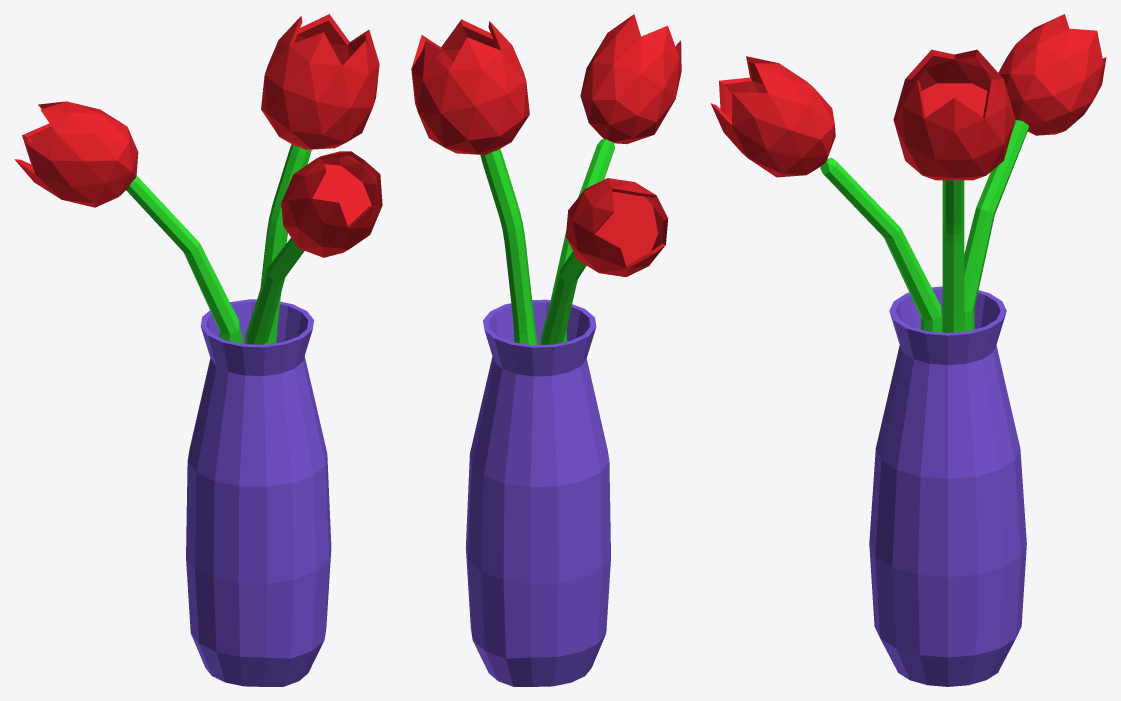
File: Vase.fbx
3 views of the same model, side by side, from view 1: azimuth 30°, elevation 25°; view 2: azimuth 150°, elevation 25°; view 3: azimuth 270°, elevation 25° (orthographic). The views are drawn at different scales.
Visible parts, largest first — view 1: Cylinder.017; view 2: Cylinder.017; view 3: Cylinder.017.
Part boxes in pixels (x1=…): Cylinder.017: x1=14, y1=14, x2=382, y2=686; Cylinder.017: x1=411, y1=14, x2=681, y2=686; Cylinder.017: x1=710, y1=14, x2=1106, y2=686.
Bounding box in the file's own units: 33.79 × 67.73 × 37.76.
